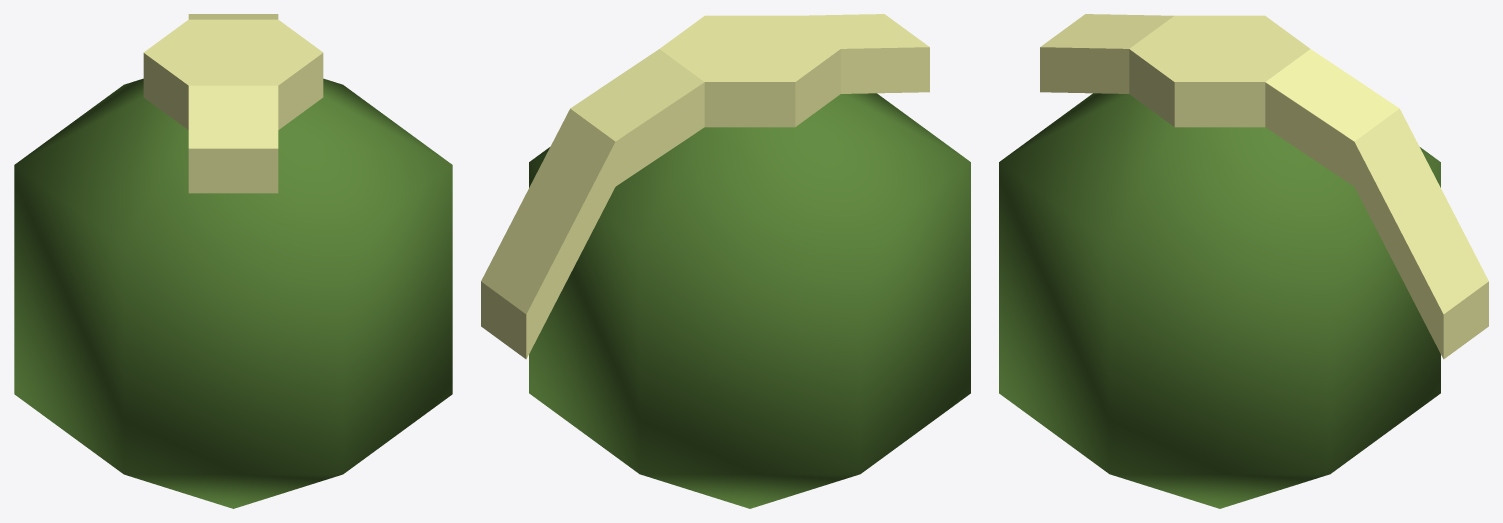
Rendered from Grenade.FBX.
3 renders of one model, left to right at view 1: azimuth 30°, elevation 25°; view 2: azimuth 150°, elevation 25°; view 3: azimuth 270°, elevation 25°, orthographic.
Parts seen in each view (by area): view 1: Sphere01, Object01; view 2: Sphere01, Object01; view 3: Sphere01, Object01.
Part boxes in pixels (bbox=[...]): Sphere01: bbox=[14, 78, 452, 508]; Object01: bbox=[143, 14, 323, 193]; Sphere01: bbox=[529, 93, 970, 508]; Object01: bbox=[481, 14, 929, 359]; Sphere01: bbox=[999, 93, 1440, 508]; Object01: bbox=[1040, 14, 1488, 359].
Size of the model in its own units: 30 by 39.8 by 38.41.
